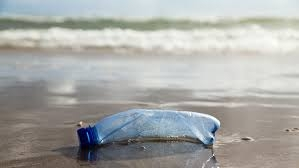plastic: (68, 103, 222, 154)
